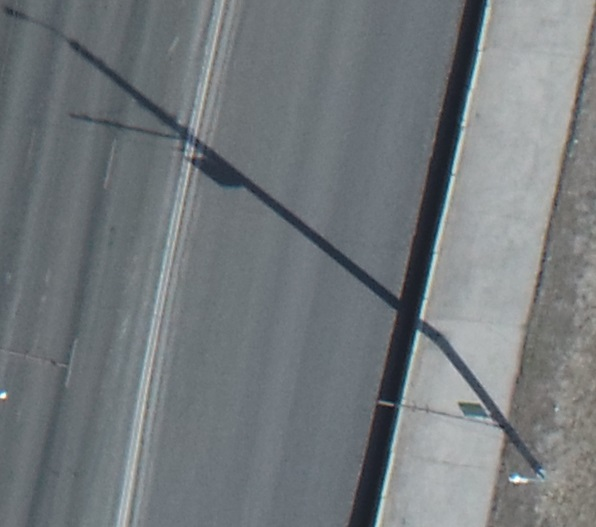opora: (415, 318, 552, 487)
